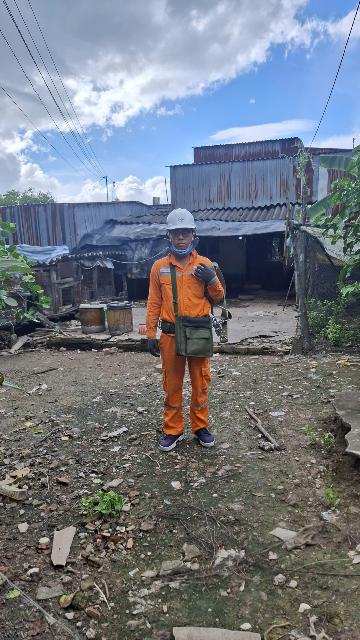gloves: (147, 335, 170, 361), (194, 263, 219, 285)
harness: (154, 313, 223, 339)
helmet: (162, 209, 202, 232)
shoes: (188, 424, 221, 450), (157, 428, 187, 454)
